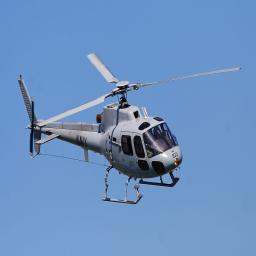helicopter: (17, 54, 241, 205)
